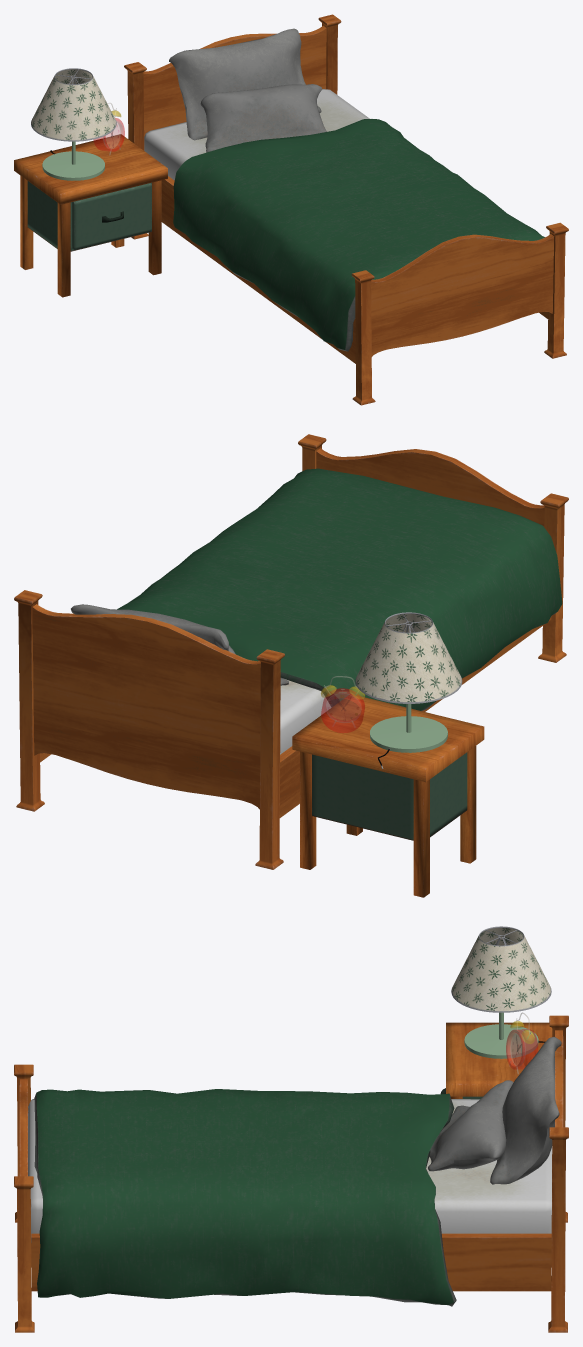
The picture shows the model from 3 angles, top to bottom: view 1: azimuth 30°, elevation 25°; view 2: azimuth 150°, elevation 25°; view 3: azimuth 270°, elevation 25°; orthographic projection. The views are drawn at different scales.
Parts seen in each view (by area): view 1: Bed, Mini_Table, LampShade, Clock; view 2: Bed, Mini_Table, LampShade, Clock; view 3: Bed, LampShade, Mini_Table, Clock.
Part boxes in pixels (bbox=[...]): Bed: bbox=[124, 14, 568, 405]; Mini_Table: bbox=[14, 134, 167, 297]; LampShade: bbox=[31, 68, 116, 180]; Clock: bbox=[93, 103, 124, 155]; Bed: bbox=[14, 434, 568, 869]; Mini_Table: bbox=[292, 694, 484, 897]; LampShade: bbox=[355, 612, 462, 768]; Clock: bbox=[321, 676, 364, 732]; Bed: bbox=[14, 1015, 568, 1332]; LampShade: bbox=[451, 926, 551, 1058]; Mini_Table: bbox=[440, 1022, 552, 1099]; Clock: bbox=[506, 1012, 537, 1074].
Bounding box in the file's own units: 167 × 93.34 × 202.
Materials: 4 (4 with a texture image).
